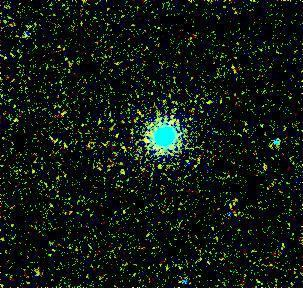star: (131, 126, 161, 156)
